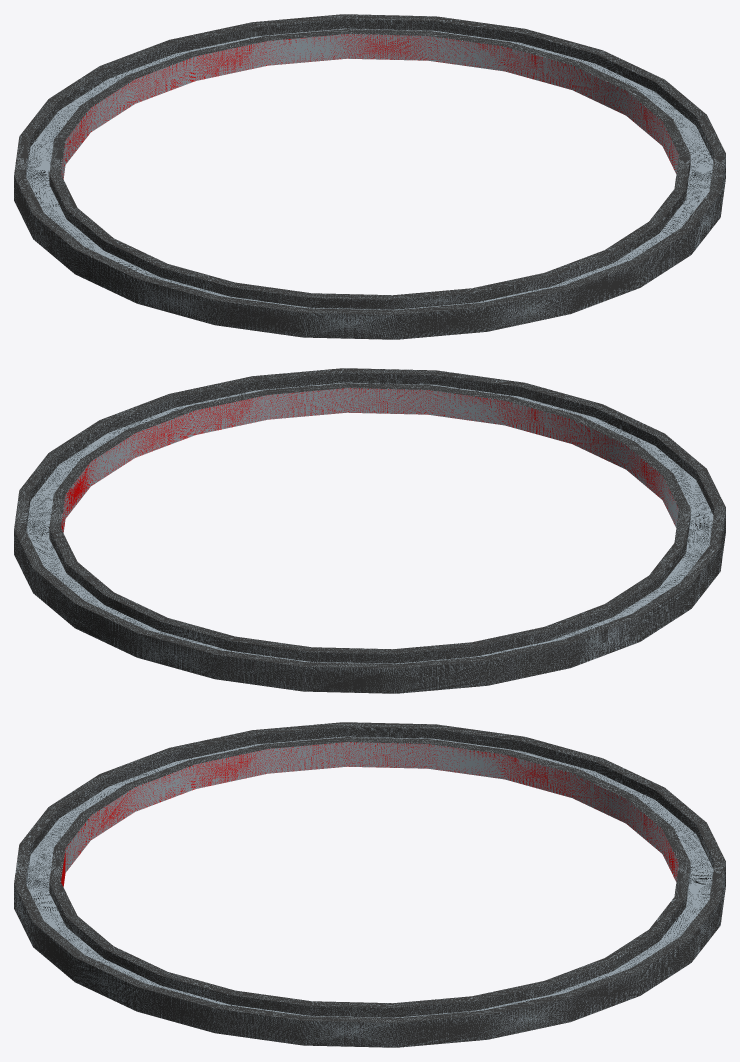
Rendered from ring.fbx.
The picture shows the model from 3 angles, top to bottom: view 1: azimuth 30°, elevation 25°; view 2: azimuth 150°, elevation 25°; view 3: azimuth 270°, elevation 25°; orthographic projection.
Visible parts, largest first — view 1: Model; view 2: Model; view 3: Model.
Part boxes in pixels (x1,y1,x2,y2): Model: [14, 14, 725, 339]; Model: [14, 368, 725, 693]; Model: [14, 722, 725, 1047].
Bounding box in the file's own units: 2656 × 102 × 2656.
